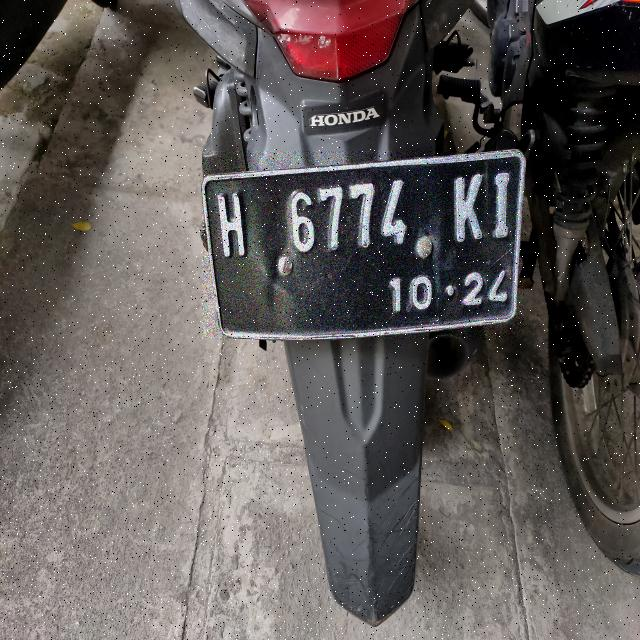plate: (203, 151, 523, 338)
